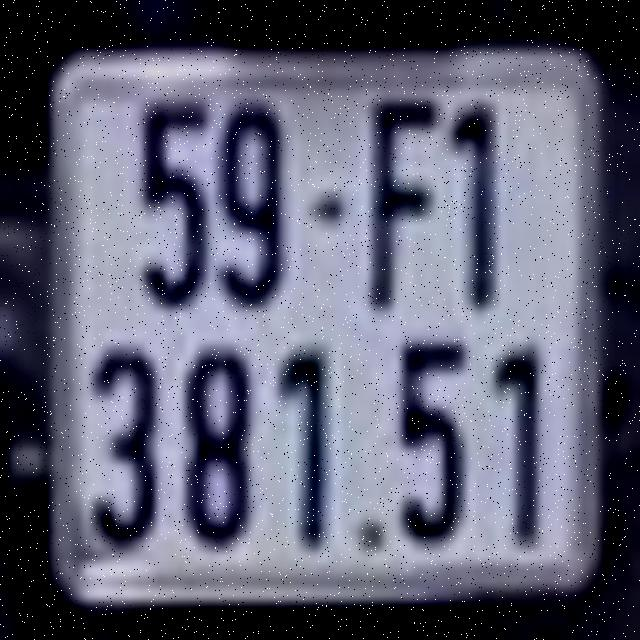1: (452, 100, 501, 308), (495, 345, 544, 548), (279, 349, 328, 549)
3: (89, 345, 158, 545)
5: (138, 98, 211, 307), (400, 339, 467, 543)
8: (184, 346, 251, 546)
9: (217, 100, 283, 308)
F: (369, 97, 440, 310)
